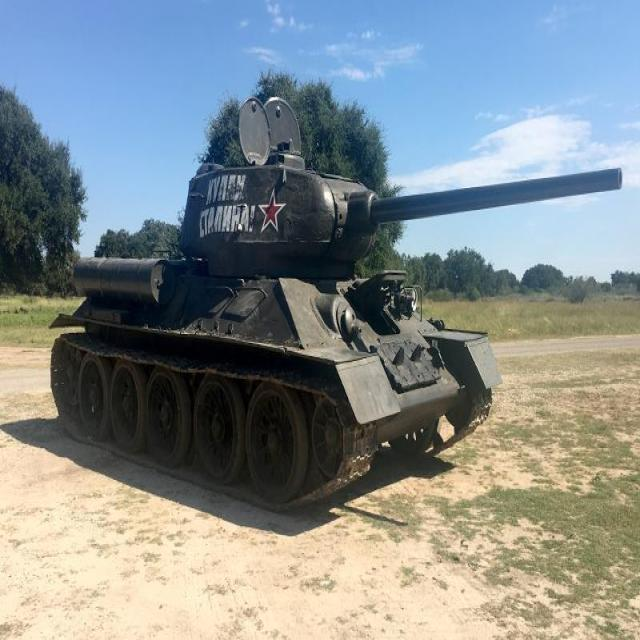Tanks: (42, 106, 486, 528)
